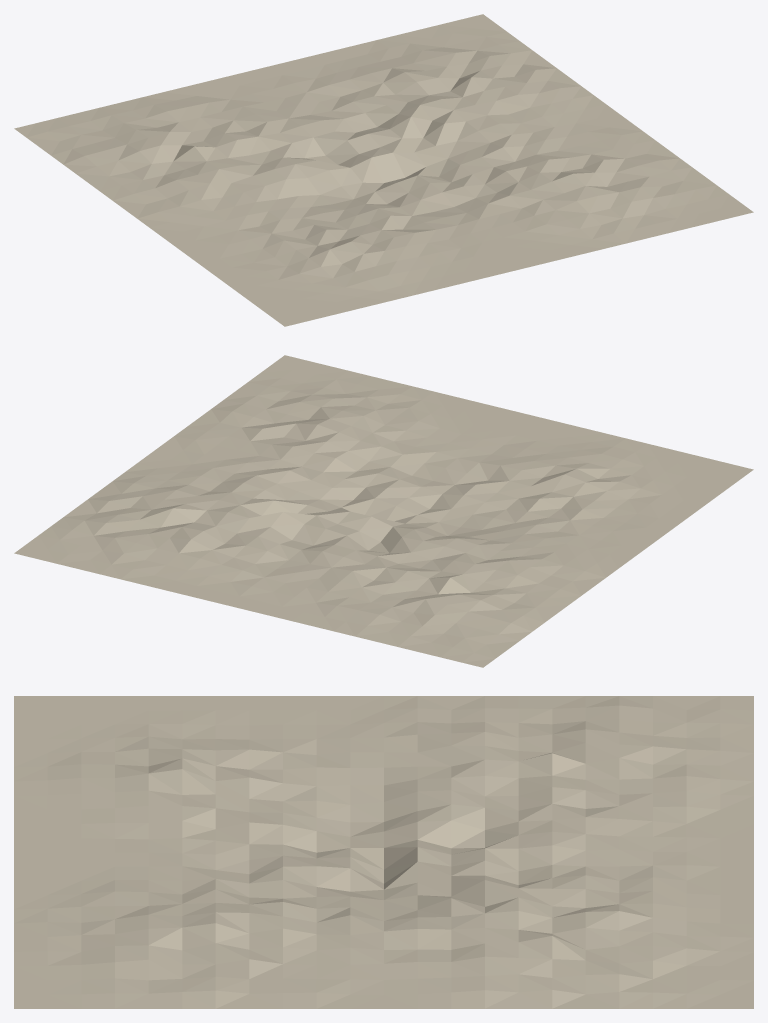
File: Ground_s_02.fbx
3 renders of one model, top to bottom at view 1: azimuth 30°, elevation 25°; view 2: azimuth 150°, elevation 25°; view 3: azimuth 270°, elevation 25°, orthographic. The views are drawn at different scales.
Visible parts, largest first — view 1: Ground_s_02; view 2: Ground_s_02; view 3: Ground_s_02.
Part boxes in pixels (x1,y1,x2,y2): Ground_s_02: [14, 14, 753, 326]; Ground_s_02: [14, 355, 753, 667]; Ground_s_02: [14, 696, 753, 1008].
Bounding box in the file's own units: 5000 × 250 × 5000.
